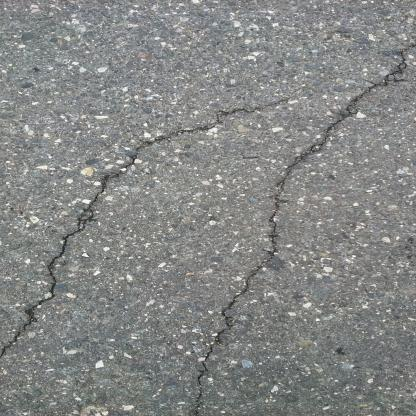Cracks: (184, 49, 413, 416), (0, 87, 301, 354)
